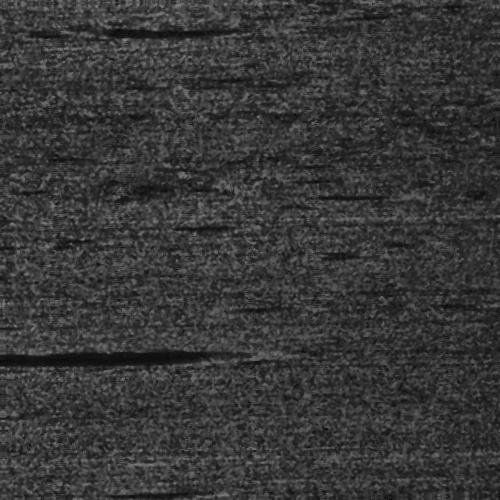object: (208, 346, 281, 363), (197, 23, 302, 34), (175, 486, 216, 495), (375, 194, 428, 197), (218, 221, 249, 226)
shadow: (16, 346, 244, 363), (112, 23, 249, 34), (103, 486, 195, 495), (164, 221, 233, 226), (313, 194, 401, 197)
